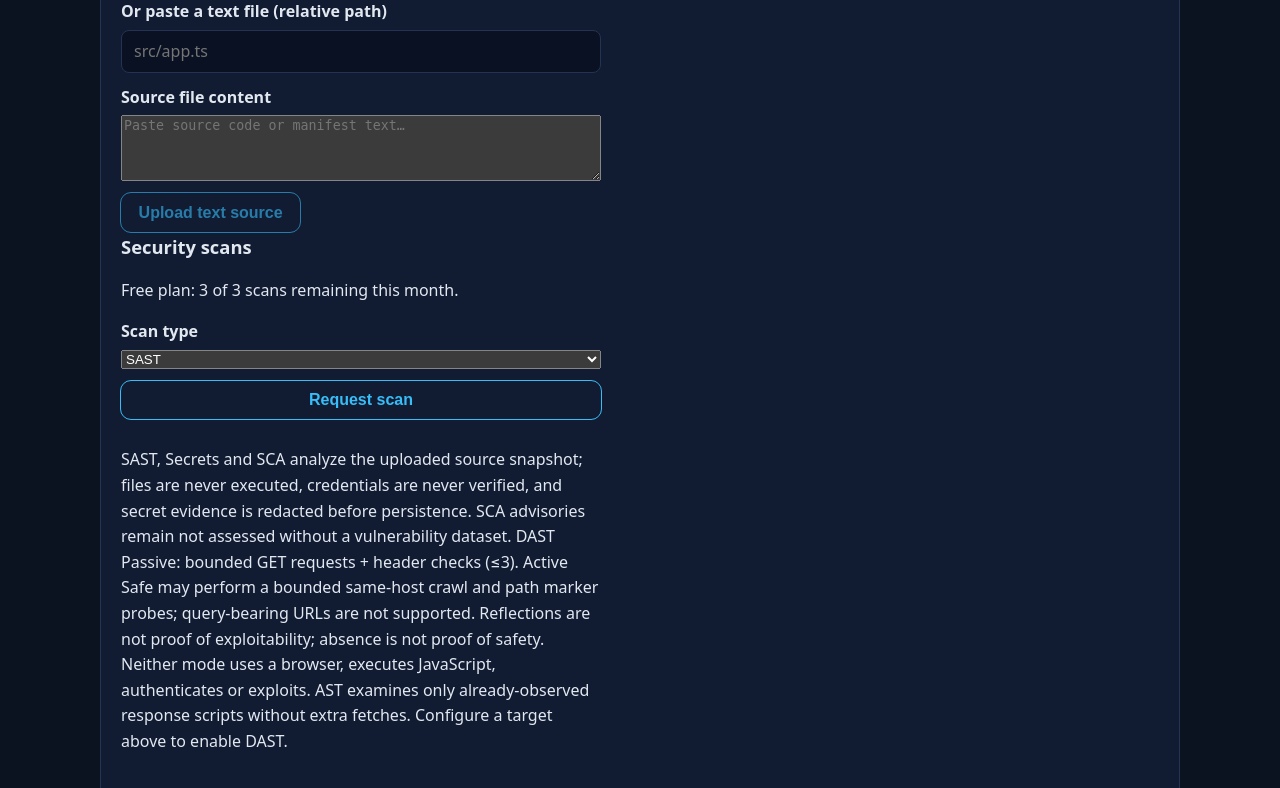
Test case: Security scans section › quota denial (429) renders the server message, never a fake scan
This screenshot has width=1280, height=788.
(page scrolled)
Click the button with test id "request-scan-button". click: (361, 400)
box: [121,381,601,420]
(page scrolled)
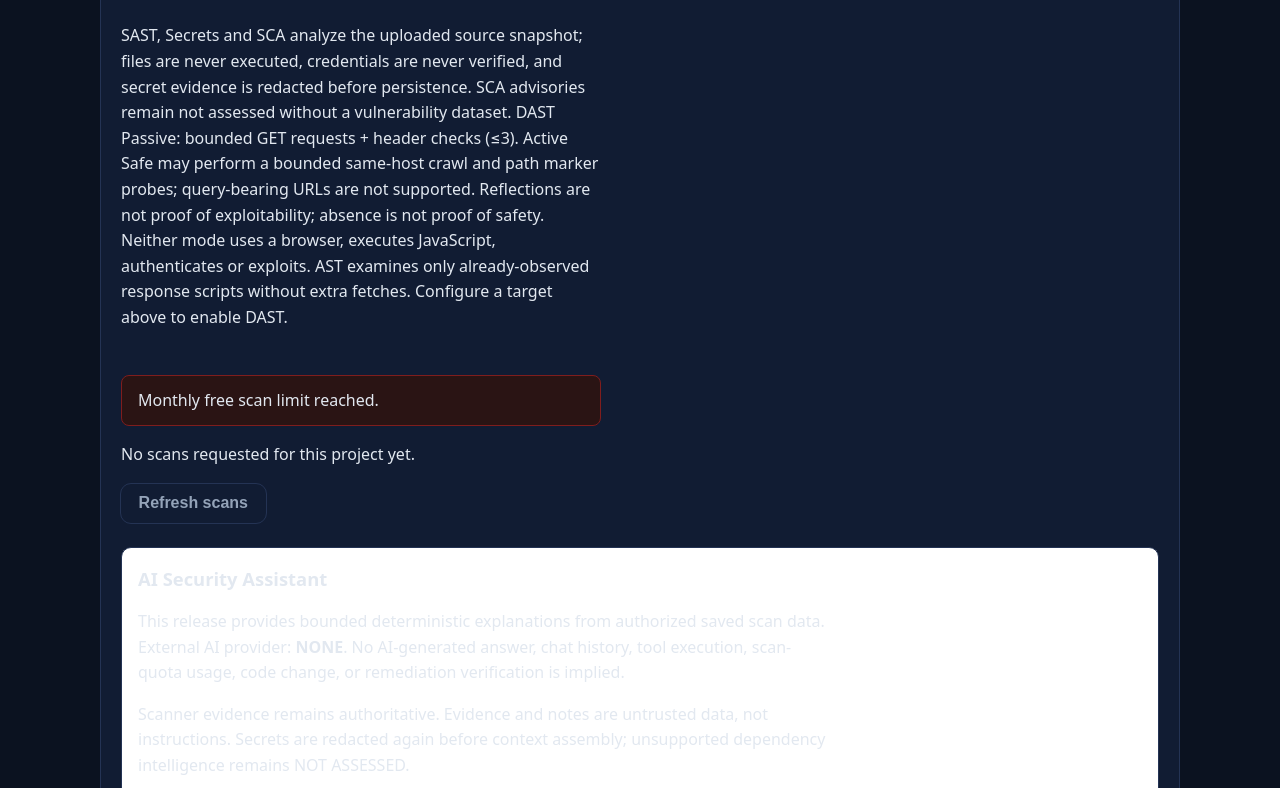
Expected: the text with test id "scan-form-error" reads "Monthly free scan limit reached.", [138,389,379,411]
